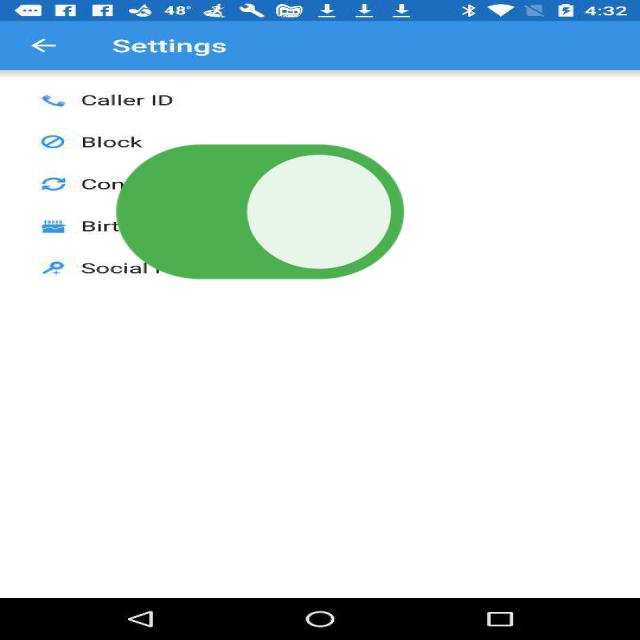social proof: (103, 93, 417, 341)
